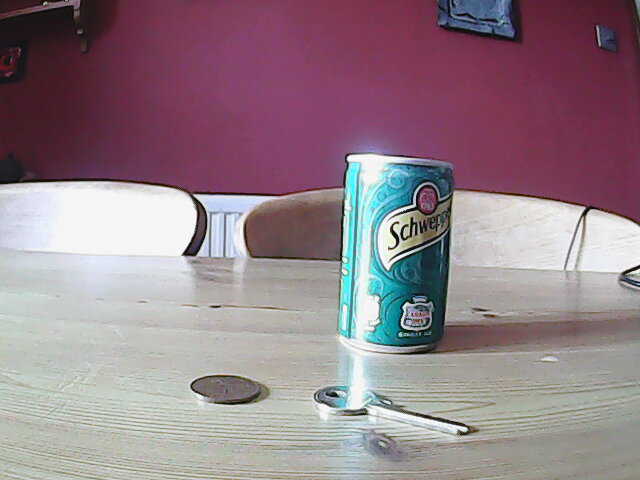Can: (333, 148, 451, 356)
Coin: (188, 373, 265, 407)
Key: (312, 384, 475, 442)
